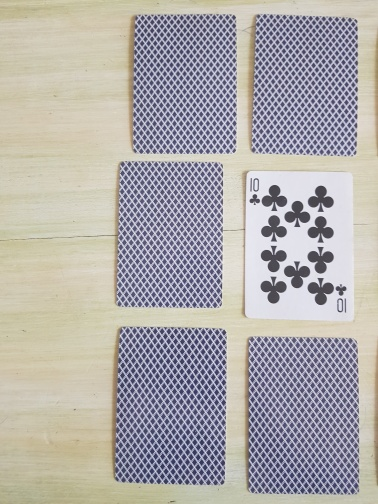ten: (242, 170, 356, 323)
